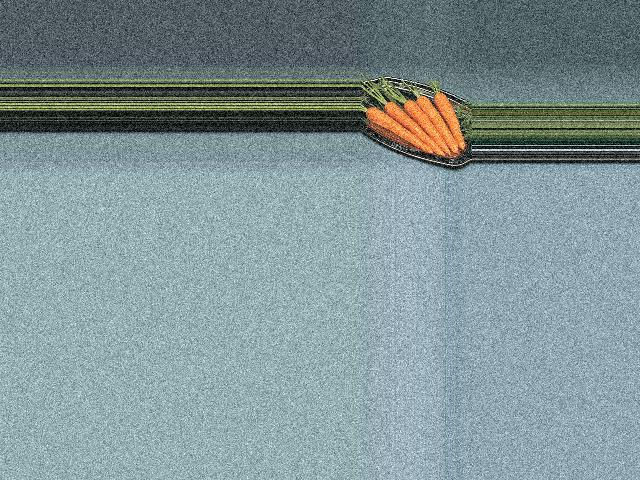carrot: (439, 93, 466, 150)
